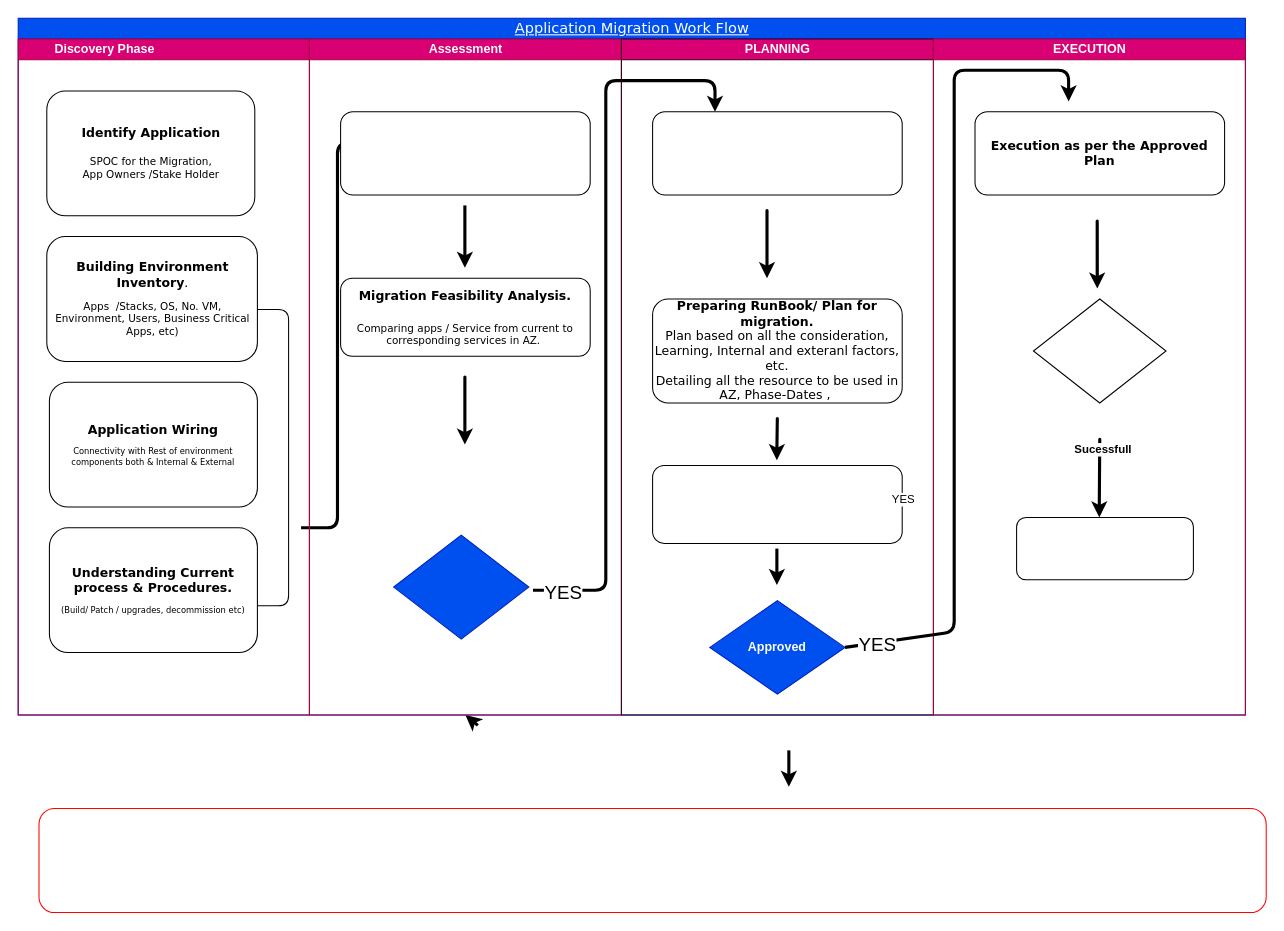
Image size: 1284x931. Some labels were removed from this diagram. The box of each missing label's shape, as (x1, y1, x2, y2) in pixels:
Building App E2E As-is Layout / Arch Diagram: (340, 111, 590, 195)
Documentation: (1016, 516, 1193, 580)
Execution Status: (1032, 298, 1166, 403)
Passed: (393, 534, 529, 639)
Purpose "To Be" Arch diagram: (652, 111, 902, 195)
Submit plan for approval. Approval from App Owners, Stakeholders, CAB, Etc: (652, 464, 902, 543)
